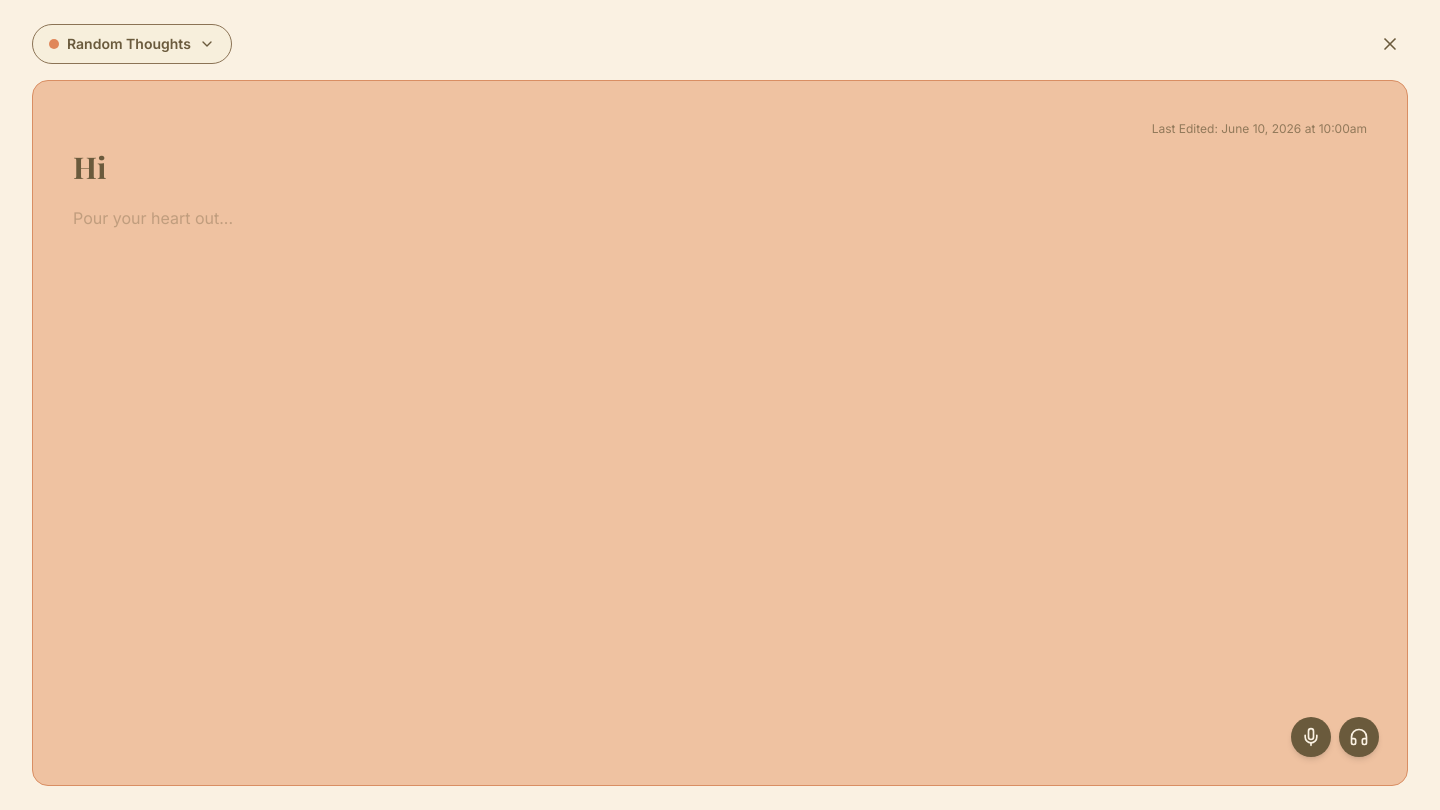
NoteEditor autosave › shows the dictate (mic) button when SpeechRecognition is available
Click the button named "dictate note" at (1311, 737), box [1291, 717, 1331, 757]
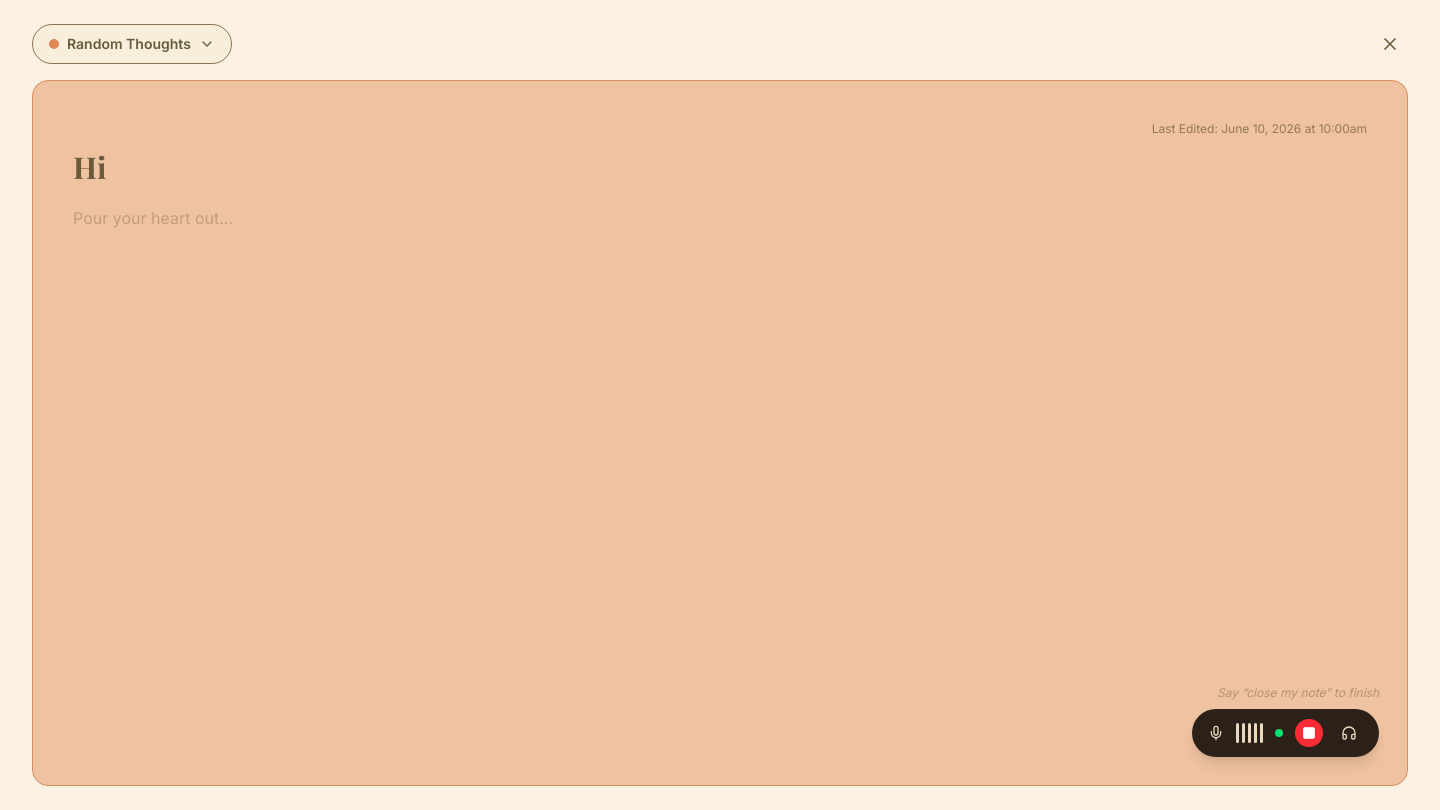
Expected: the button named "stop dictation" is shown, [1295, 719, 1323, 747]
